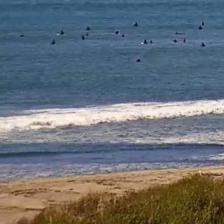surfer: (176, 32, 185, 36), (142, 39, 148, 45), (58, 30, 64, 36), (198, 25, 204, 30), (182, 38, 188, 43), (172, 38, 178, 43), (136, 58, 142, 63), (133, 22, 139, 27), (85, 27, 91, 32), (51, 40, 56, 46), (201, 43, 206, 48), (20, 34, 26, 38), (121, 34, 126, 38), (115, 30, 119, 35), (81, 35, 85, 40), (84, 33, 90, 36), (201, 21, 205, 25), (150, 40, 154, 44)
